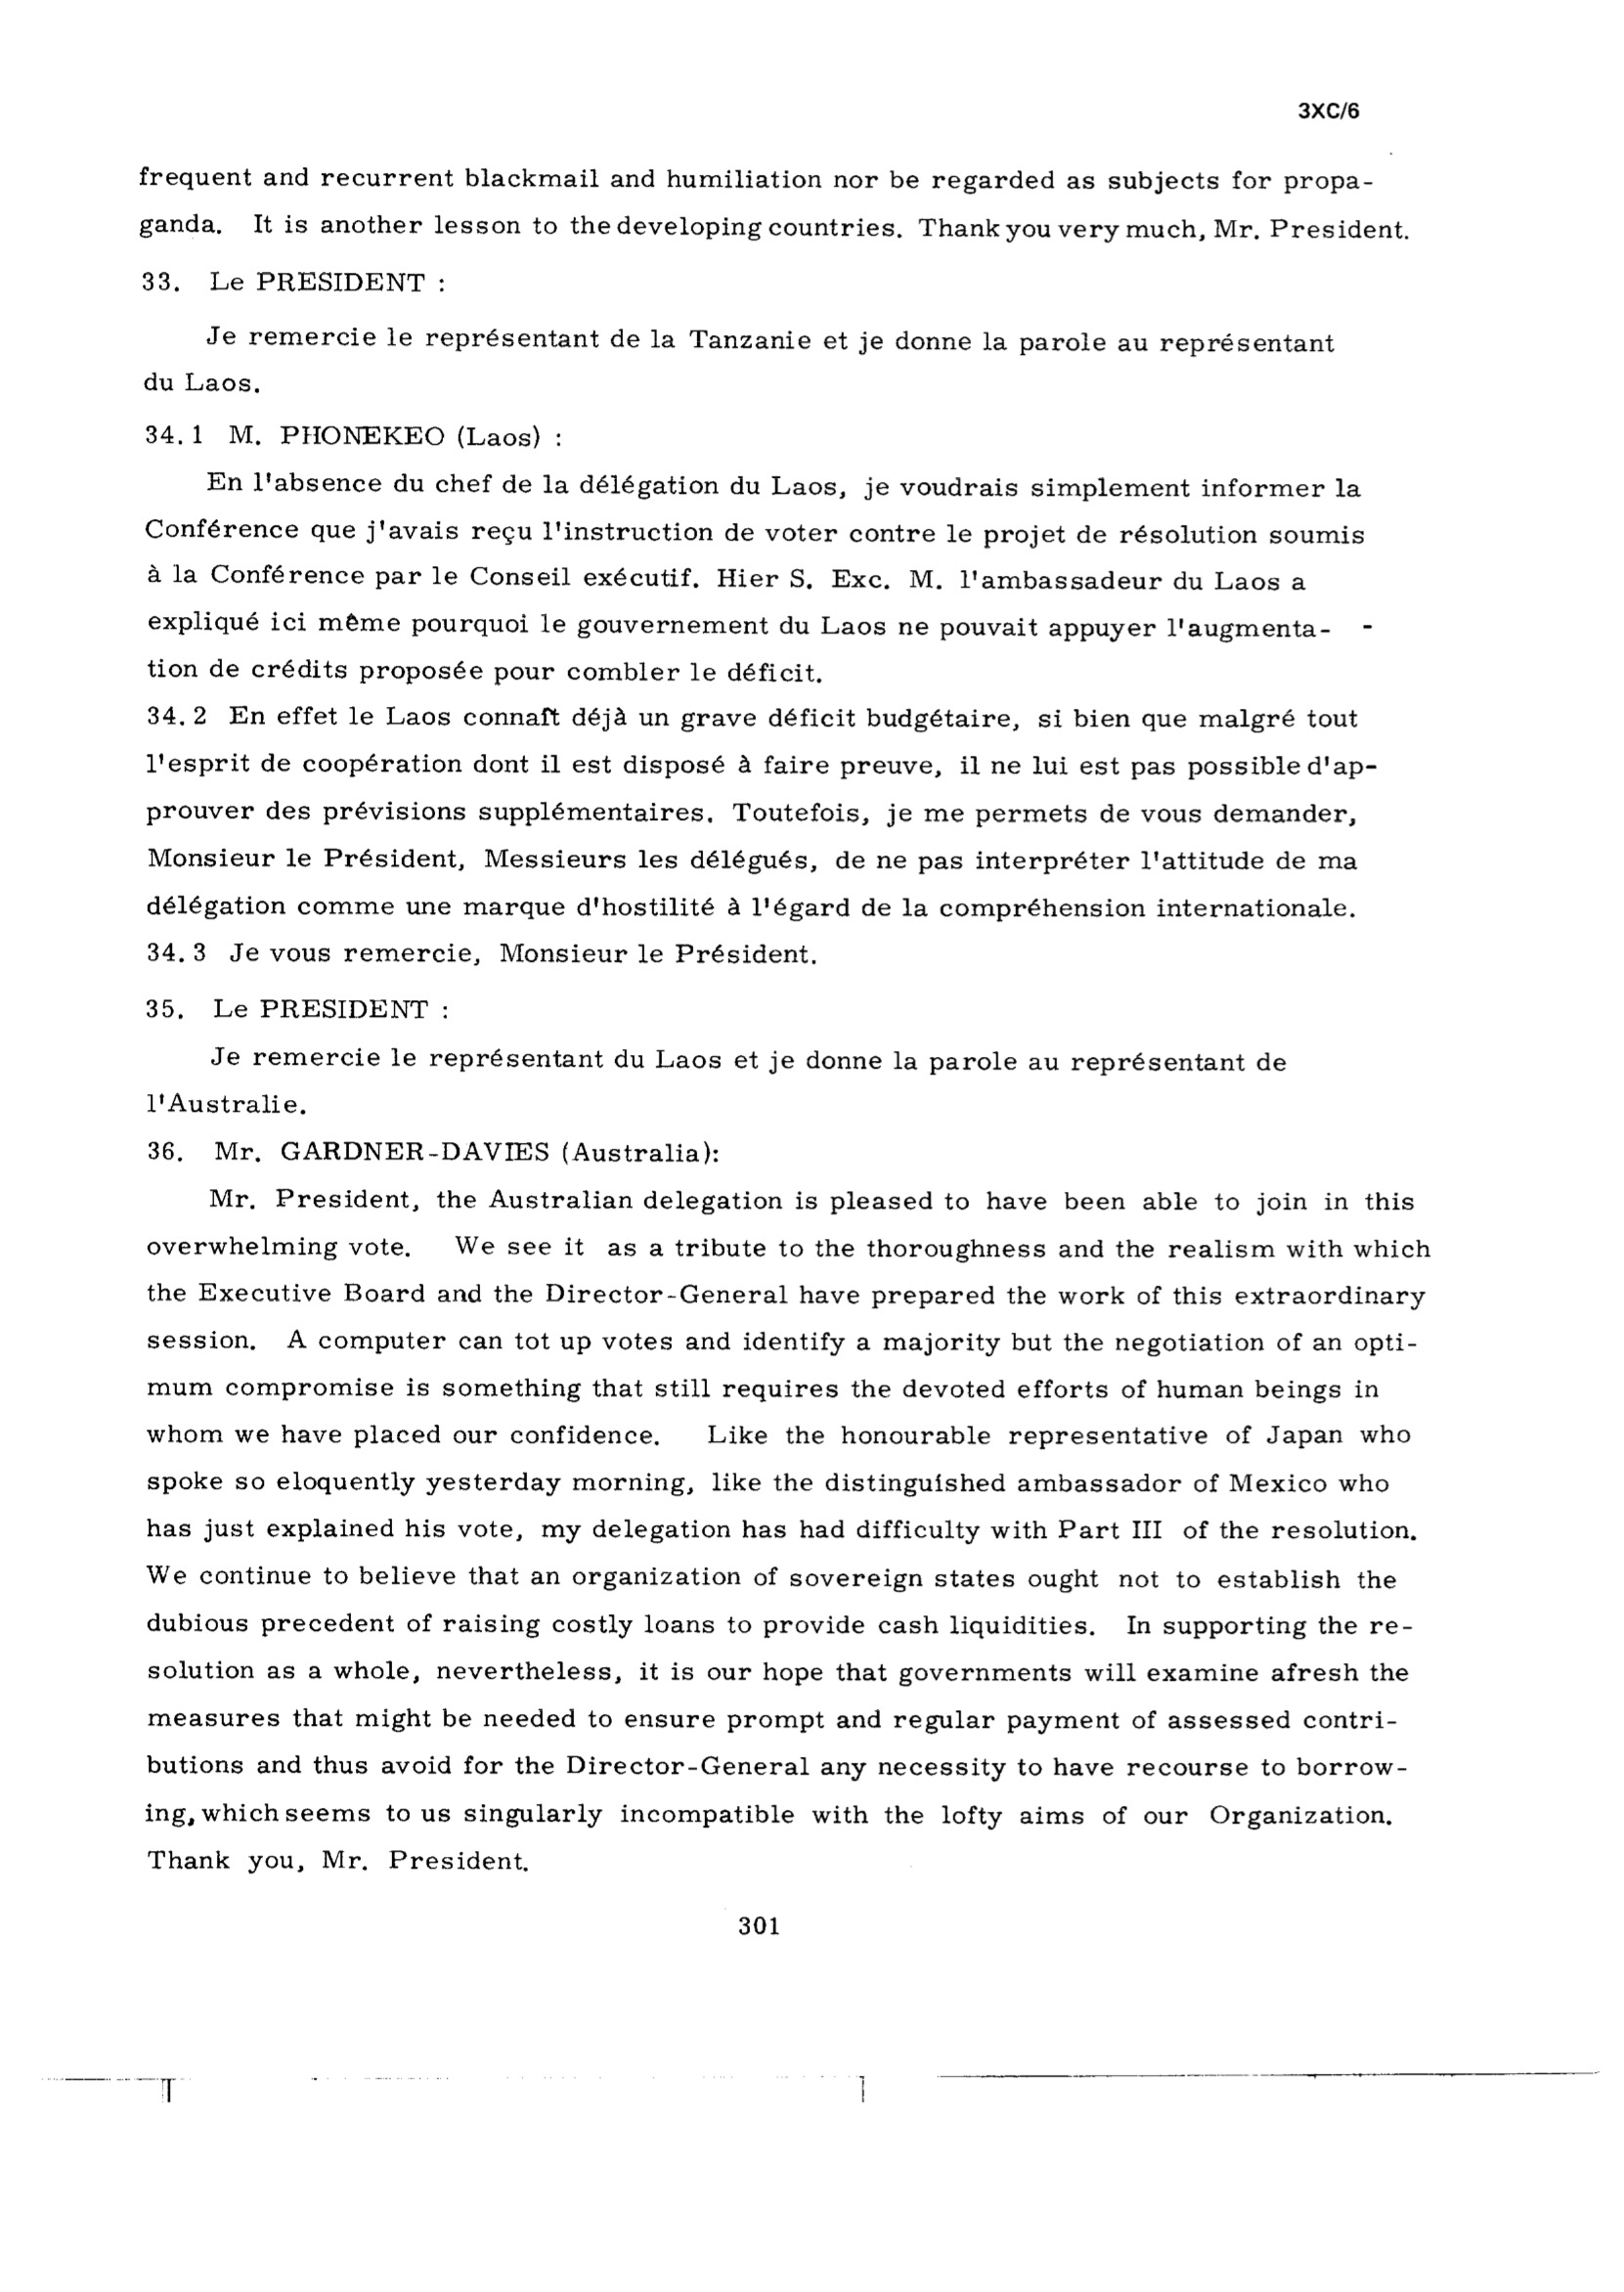MainZone-Continued: (120, 156, 1420, 246)
MainZone-ListItem: (132, 693, 1385, 919), (132, 923, 835, 974), (137, 1127, 731, 1174), (128, 411, 569, 457), (134, 983, 457, 1032), (128, 258, 457, 299)
MainZone-P: (130, 1174, 1438, 1888), (135, 468, 1383, 689), (132, 318, 1380, 408), (134, 1034, 1343, 1125)
TitlePageZone: (1281, 88, 1374, 135), (731, 1905, 787, 1951)
